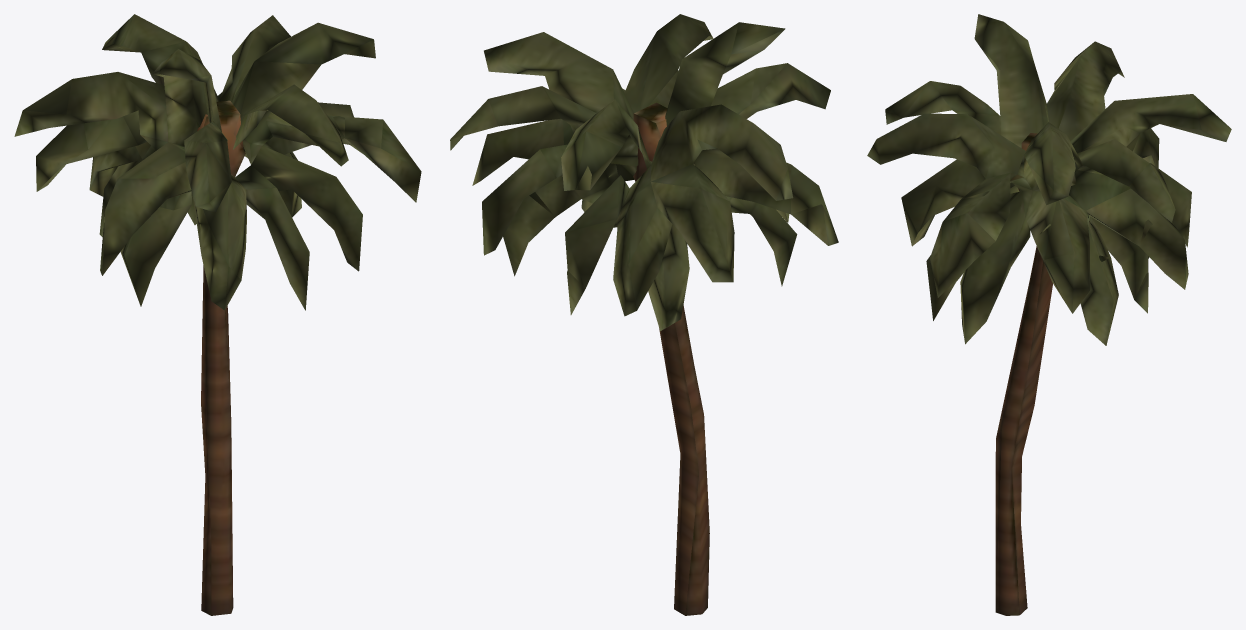
Rendered from palm_a_far.glb.
The picture shows the model from 3 angles, left to right: view 1: azimuth 30°, elevation 25°; view 2: azimuth 150°, elevation 25°; view 3: azimuth 270°, elevation 25°; orthographic projection. The views are drawn at different scales.
Parts seen in each view (by area): view 1: body; view 2: body; view 3: body.
Boxes of the visible parts, x1,y1,x2,y2 form: body: (14, 14, 421, 615); body: (450, 14, 838, 615); body: (867, 14, 1231, 615).
Bounding box in the file's own units: 5.24 × 8.69 × 5.06.
2 materials, 2 textured.
